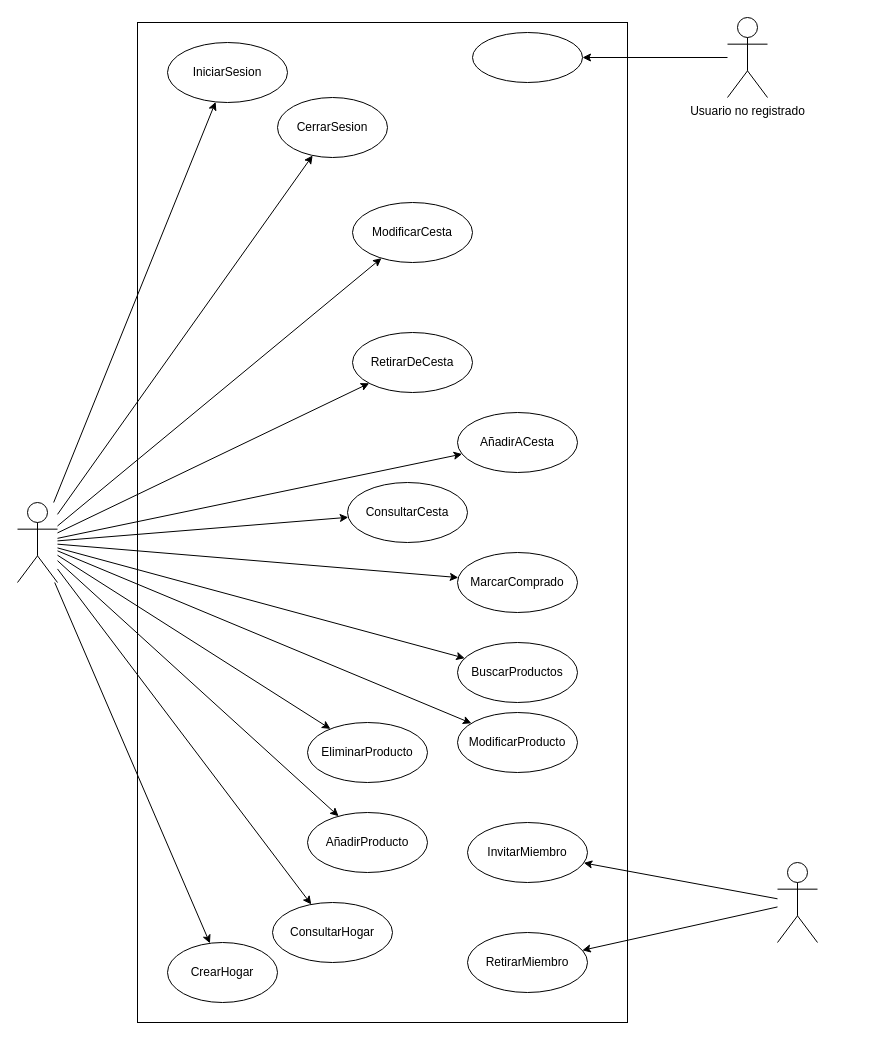
Some shapes in this 870 by 1040 pixel diagram are drawn without their labels. The box of each missing label's shape, as (x1, y1, x2, y2) in pixels:
Propietario del hogar: (776, 862, 818, 942)
Registrarse: (472, 32, 582, 82)
Usuario: (16, 502, 58, 582)
